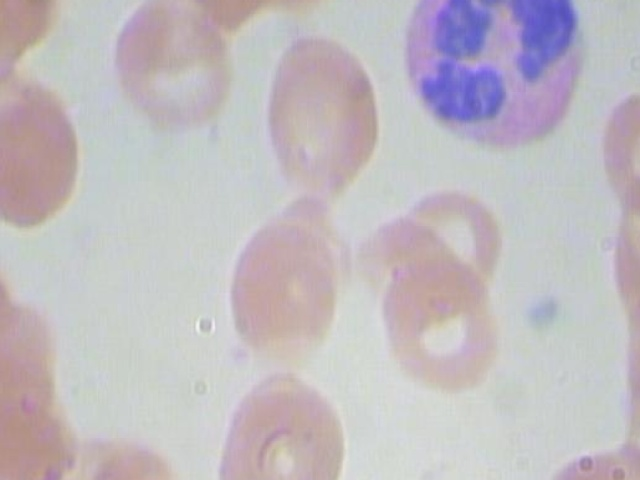Platelets: (520, 275, 571, 344)
RBC: (216, 206, 355, 376), (252, 25, 391, 194), (371, 241, 504, 401), (114, 0, 253, 151), (207, 375, 367, 480), (0, 72, 100, 236), (354, 209, 475, 326), (394, 173, 515, 289), (0, 361, 84, 480), (588, 79, 640, 214), (597, 174, 640, 335), (517, 445, 640, 480), (151, 0, 309, 23), (0, 236, 24, 351)
WBC: (384, 0, 613, 157)
